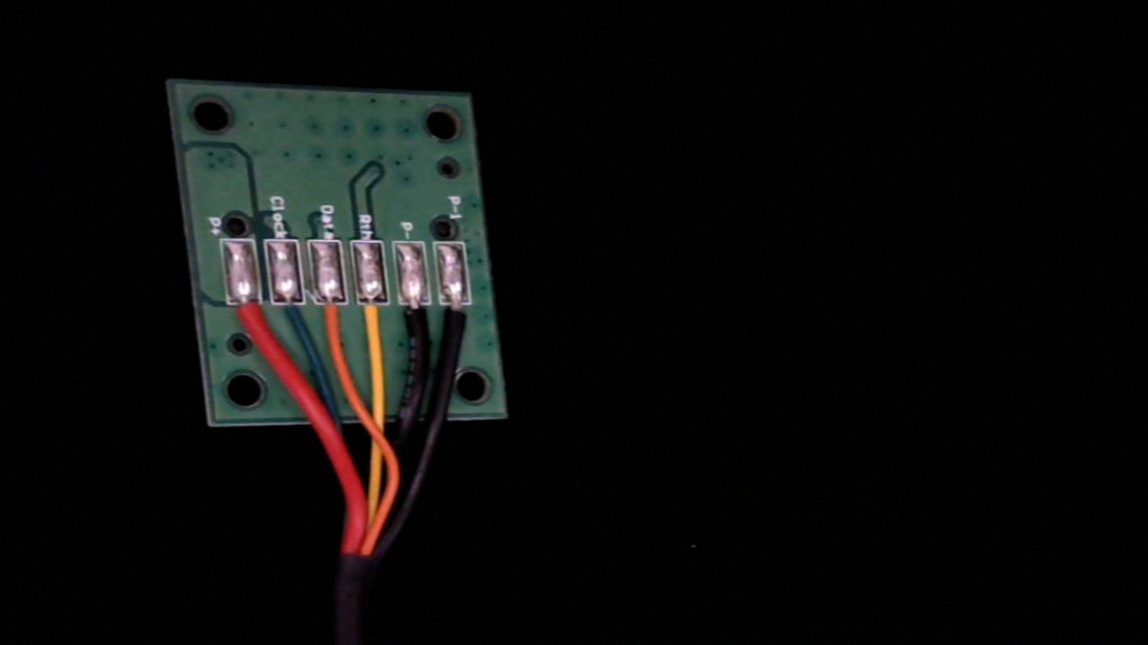Black: (396, 286, 439, 359)
Black1: (439, 288, 480, 354)
Green: (270, 280, 314, 350)
Orange: (312, 285, 354, 357)
Red: (226, 286, 270, 356)
Yellow: (355, 287, 399, 361)
